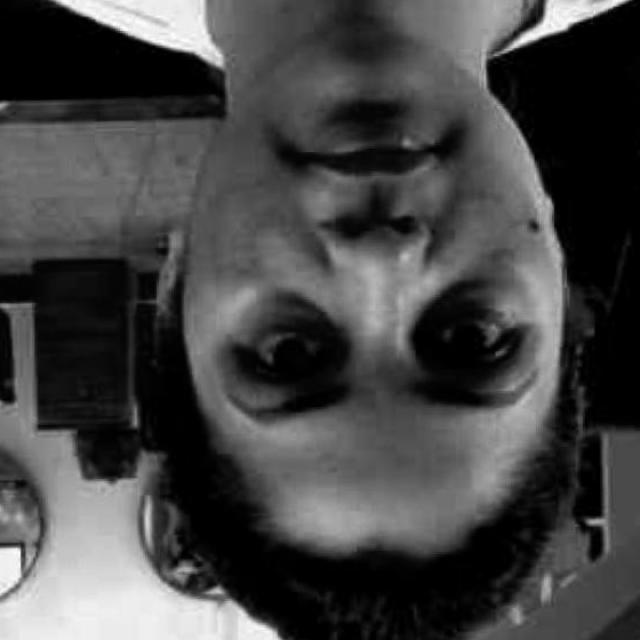puffy_eyes: (422, 279, 526, 320), (253, 299, 342, 338)
